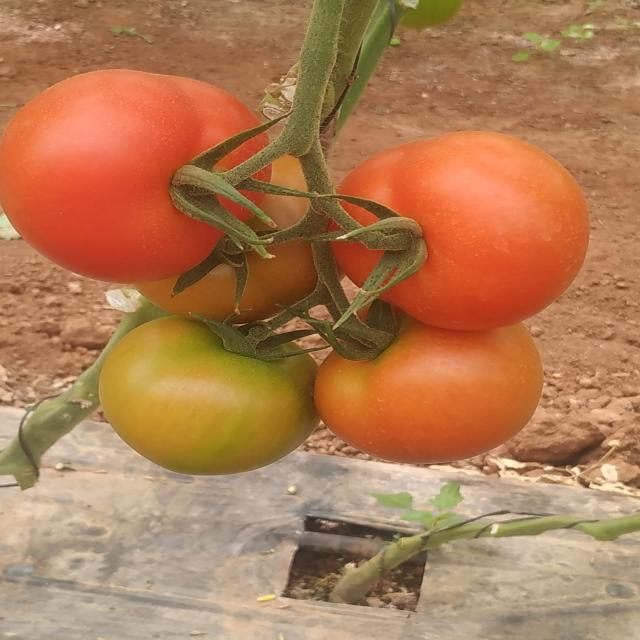Ripe Tomato: (329, 129, 584, 328), (2, 77, 242, 258), (319, 316, 540, 462)
Unripe Tomato: (103, 316, 323, 476), (242, 156, 330, 310)
